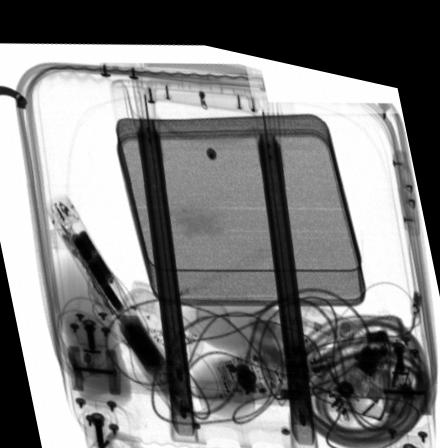Baton: (42, 188, 196, 415)
